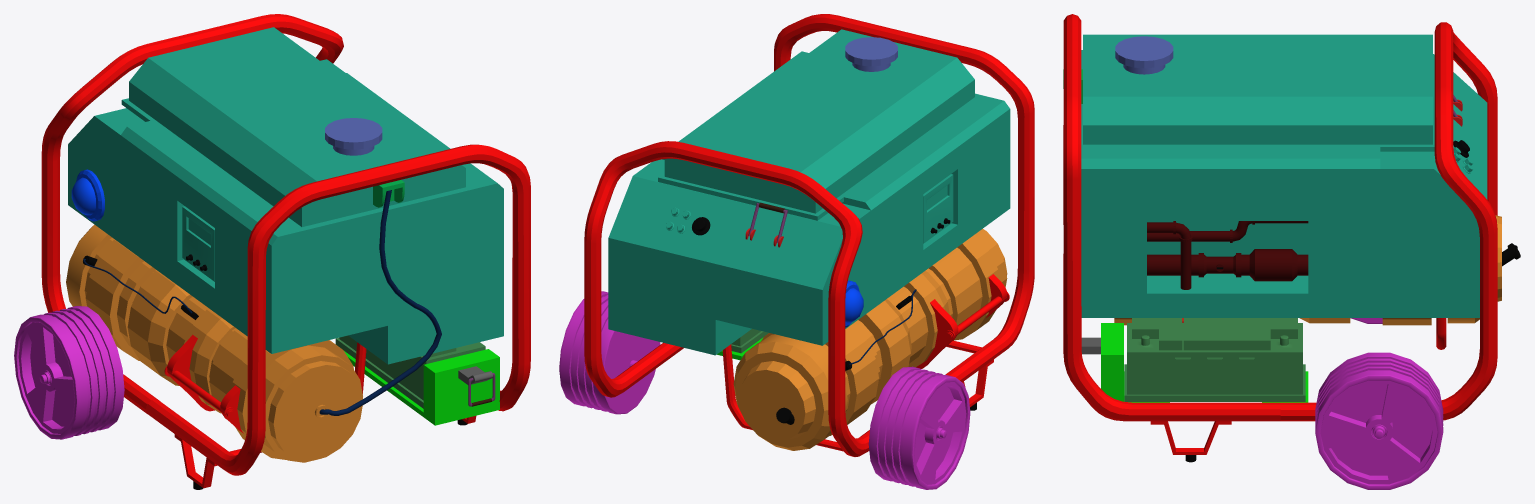
The model's file is GenerateurUV.fbx.
The picture shows the model from 3 angles, left to right: view 1: azimuth 30°, elevation 25°; view 2: azimuth 150°, elevation 25°; view 3: azimuth 270°, elevation 25°; orthographic projection. The views are drawn at different scales.
Visible parts, largest first — view 1: CorpsGenerateur00, Calandre00, TubeMoteur00, Roue00, Support04, Batterie00, FilExterieur00, Bouchon02, AccrocheAttache00, Support02, Sphere001, FilExterieurSupport00 (+2 smaller); view 2: CorpsGenerateur00, Calandre00, TubeMoteur00, Roue00, Roue001, Bouchon02, Cylinder002, AccrocheAttache00, Sphere001; view 3: CorpsGenerateur00, Calandre00, Batterie00, Roue001, TuyauInterieur00, Support04, Bouchon02, TubeMoteur00, TuyauxInterieur07, Support03, TuyauxInterieur03.
Part boxes in pixels (x1,y1,x2,y2): CorpsGenerateur00: (68, 27, 503, 364); Calandre00: (41, 14, 530, 475); TubeMoteur00: (66, 224, 362, 462); Roue00: (14, 306, 124, 439); Support04: (344, 349, 499, 425); Batterie00: (335, 335, 485, 408); FilExterieur00: (319, 190, 441, 415); Bouchon02: (325, 118, 382, 155); AccrocheAttache00: (167, 334, 214, 411); Support02: (174, 434, 217, 488); Sphere001: (71, 177, 95, 215); FilExterieurSupport00: (373, 180, 404, 207); CorpsGenerateur00: (608, 29, 1010, 355); Calandre00: (584, 14, 1034, 456); TubeMoteur00: (733, 229, 1007, 450); Roue00: (868, 366, 970, 489); Roue001: (559, 291, 660, 414); Bouchon02: (845, 37, 897, 71); Cylinder002: (722, 344, 842, 451); AccrocheAttache00: (916, 299, 958, 368); Sphere001: (845, 288, 863, 322); CorpsGenerateur00: (1081, 34, 1487, 317); Calandre00: (1063, 14, 1497, 421); Batterie00: (1124, 318, 1305, 401); Roue001: (1315, 352, 1443, 489); TuyauInterieur00: (1147, 249, 1308, 281); Support04: (1101, 323, 1308, 402); Bouchon02: (1115, 36, 1173, 74); TubeMoteur00: (1114, 215, 1501, 325); TuyauxInterieur07: (1147, 229, 1232, 242); Support03: (1150, 421, 1231, 454); TuyauxInterieur03: (1179, 235, 1192, 289).
Size of the model in its own units: 85.69 by 71.73 by 85.72.
